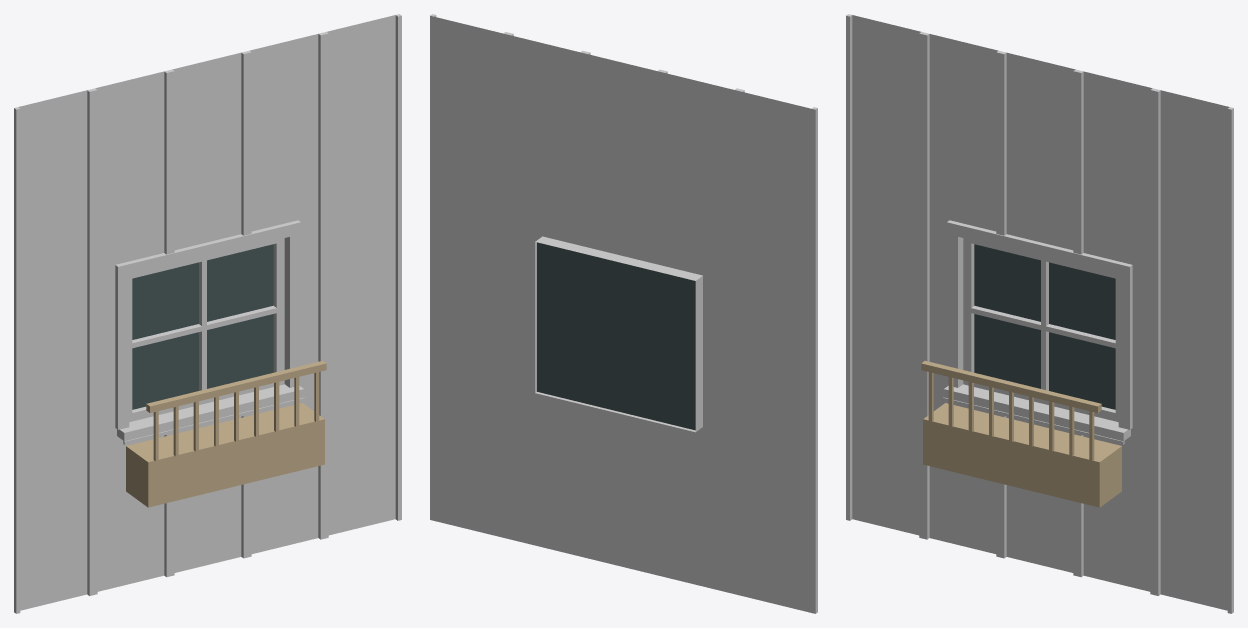
The model's file is mid-w1_close.fbx.
3 views of the same model, side by side, from view 1: azimuth 30°, elevation 25°; view 2: azimuth 150°, elevation 25°; view 3: azimuth 330°, elevation 25° (orthographic).
Parts seen in each view (by area): view 1: a2015/200/mid-w1_close; view 2: a2015/200/mid-w1_close; view 3: a2015/200/mid-w1_close.
Boxes of the visible parts, x1,y1,x2,y2 form: a2015/200/mid-w1_close: [14, 14, 401, 613]; a2015/200/mid-w1_close: [430, 14, 817, 613]; a2015/200/mid-w1_close: [846, 14, 1233, 613].
Size of the model in its own units: 2.4 by 3 by 0.42.
